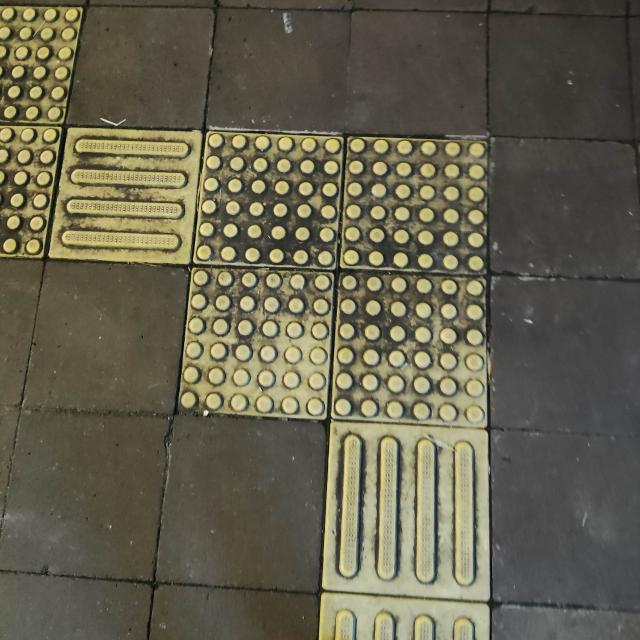kiri: (80, 132, 532, 516)
